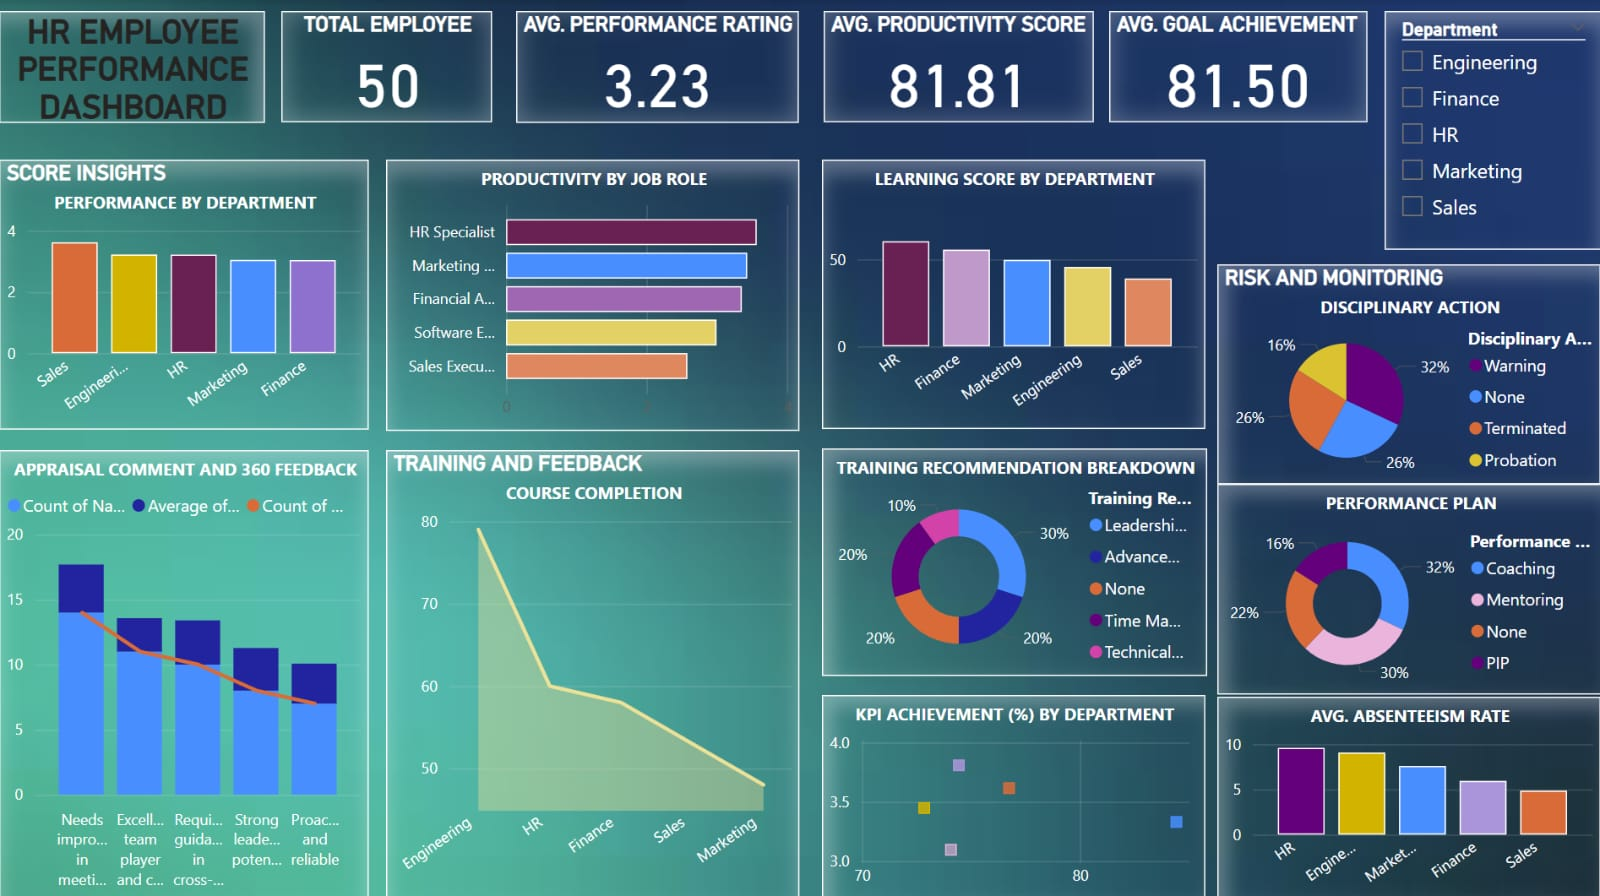

This screenshot's page, from the dashboard's own definition file:
{"tool":"powerbi","page":{"name":"Page 1","canvas":[1280,720],"ordinal":0},"visuals":[{"type":"card","title":"TOTAL EMPLOYEE","fields":{"Values":["CountNonNull(final_employee_performance_dashboard_data.Employee ID)"]},"box":[225.3,9.5,168.5,89],"z":0},{"type":"textbox","title":"HR EMPLOYEE PERFORMANCE DASHBOARD ","box":[0,9.1,212.3,89.5],"z":1000},{"type":"card","title":"AVG. PERFORMANCE RATING","fields":{"Values":["Avg(final_employee_performance_dashboard_data.Performance Rating)"]},"box":[414,9.1,226,89.5],"z":2000},{"type":"card","title":"AVG. PRODUCTIVITY SCORE","fields":{"Values":["Avg(final_employee_performance_dashboard_data.Productivity Score)"]},"box":[658.9,9.5,215.9,89],"z":3000},{"type":"card","title":"AVG. GOAL ACHIEVEMENT","fields":{"Values":["Avg(final_employee_performance_dashboard_data.Goal Achievement (%))"]},"box":[888,9.5,206.4,89],"z":4000},{"type":"slicer","fields":{"Values":["final_employee_performance_dashboard_data.Department"]},"box":[1107.1,9.1,174.4,191.1],"z":6000},{"type":"columnChart","title":"SCORE INSIGHTS","fields":{"Category":["final_employee_performance_dashboard_data.Department"],"Y":["Avg(final_employee_performance_dashboard_data.Performance Rating)"]},"box":[0,128.8,295.4,215.9],"z":7000},{"type":"barChart","fields":{"Y":["Avg(final_employee_performance_dashboard_data.Performance Rating)"],"Category":["final_employee_performance_dashboard_data.Job Title"]},"box":[309.4,128.9,330.6,216.9],"z":8000},{"type":"columnChart","fields":{"Category":["final_employee_performance_dashboard_data.Department"],"Y":["Avg(final_employee_performance_dashboard_data.Learning Score)"]},"box":[658.2,128.9,306.4,215.4],"z":9000},{"type":"stackedAreaChart","title":"TRAINING AND FEEDBACK","fields":{"Category":["final_employee_performance_dashboard_data.Department"],"Y":["Sum(final_employee_performance_dashboard_data.Course Completions)"]},"box":[309.4,360.9,330.6,359.4],"z":10000},{"type":"donutChart","fields":{"Category":["final_employee_performance_dashboard_data.Training Recommendations"],"Y":["CountNonNull(final_employee_performance_dashboard_data.Employee ID)"]},"box":[658.2,359.4,307.9,182],"z":11000},{"type":"lineStackedColumnComboChart","fields":{"Y2":["CountNonNull(final_employee_performance_dashboard_data.Appraisal Comments)"],"Y":["CountNonNull(final_employee_performance_dashboard_data.Name)","Avg(final_employee_performance_dashboard_data.Performance Rating)"],"Category":["final_employee_performance_dashboard_data.360 Feedback Summary"]},"box":[0,360.9,295.7,359.4],"z":11001},{"type":"pieChart","title":"RISK AND MONITORING","fields":{"Category":["final_employee_performance_dashboard_data.Disciplinary Action"],"Y":["CountNonNull(final_employee_performance_dashboard_data.Employee ID)"]},"box":[973.6,212.3,306.4,175.9],"z":11002},{"type":"donutChart","fields":{"Category":["final_employee_performance_dashboard_data.Performance Plan"],"Y":["CountNonNull(final_employee_performance_dashboard_data.Employee ID)"]},"box":[973.6,388.2,307.9,168.3],"z":11003},{"type":"columnChart","fields":{"Category":["final_employee_performance_dashboard_data.Department"],"Y":["Avg(final_employee_performance_dashboard_data.Absenteeism Rate (%))"]},"box":[973.6,558.1,306.4,162.3],"z":11004},{"type":"scatterChart","fields":{"Category":["final_employee_performance_dashboard_data.Department"],"X":["Avg(final_employee_performance_dashboard_data.KPI Achievement (%))"],"Y":["Avg(final_employee_performance_dashboard_data.Peer Review Score)"]},"box":[658.2,556.6,306.4,163.8],"z":11005}]}

Visuals, with their boxes in screenshot pixels (x1, y1, x2, y2), scaled from the page's 1280x720 canvas onto the 1600x896 screenshot:
"TOTAL EMPLOYEE" card: [left=282, top=12, right=492, bottom=123]
"HR EMPLOYEE PERFORMANCE DASHBOARD " textbox: [left=0, top=11, right=265, bottom=123]
"AVG. PERFORMANCE RATING" card: [left=518, top=11, right=800, bottom=123]
"AVG. PRODUCTIVITY SCORE" card: [left=824, top=12, right=1094, bottom=123]
"AVG. GOAL ACHIEVEMENT" card: [left=1110, top=12, right=1368, bottom=123]
slicer - final_employee_performance_dashboard_data.Department: [left=1384, top=11, right=1599, bottom=249]
"SCORE INSIGHTS" columnChart: [left=0, top=160, right=369, bottom=429]
barChart - Avg(final_employee_performance_dashboard_data.Performance Rating) x final_employee_performance_dashboard_data.Job Title: [left=387, top=160, right=800, bottom=430]
columnChart - final_employee_performance_dashboard_data.Department x Avg(final_employee_performance_dashboard_data.Learning Score): [left=823, top=160, right=1206, bottom=428]
"TRAINING AND FEEDBACK" stackedAreaChart: [left=387, top=449, right=800, bottom=895]
donutChart - final_employee_performance_dashboard_data.Training Recommendations x CountNonNull(final_employee_performance_dashboard_data.Employee ID): [left=823, top=447, right=1208, bottom=674]
lineStackedColumnComboChart - CountNonNull(final_employee_performance_dashboard_data.Appraisal Comments) x CountNonNull(final_employee_performance_dashboard_data.Name): [left=0, top=449, right=370, bottom=895]
"RISK AND MONITORING" pieChart: [left=1217, top=264, right=1599, bottom=483]
donutChart - final_employee_performance_dashboard_data.Performance Plan x CountNonNull(final_employee_performance_dashboard_data.Employee ID): [left=1217, top=483, right=1599, bottom=693]
columnChart - final_employee_performance_dashboard_data.Department x Avg(final_employee_performance_dashboard_data.Absenteeism Rate (%)): [left=1217, top=695, right=1599, bottom=895]
scatterChart - final_employee_performance_dashboard_data.Department x Avg(final_employee_performance_dashboard_data.KPI Achievement (%)): [left=823, top=693, right=1206, bottom=895]
